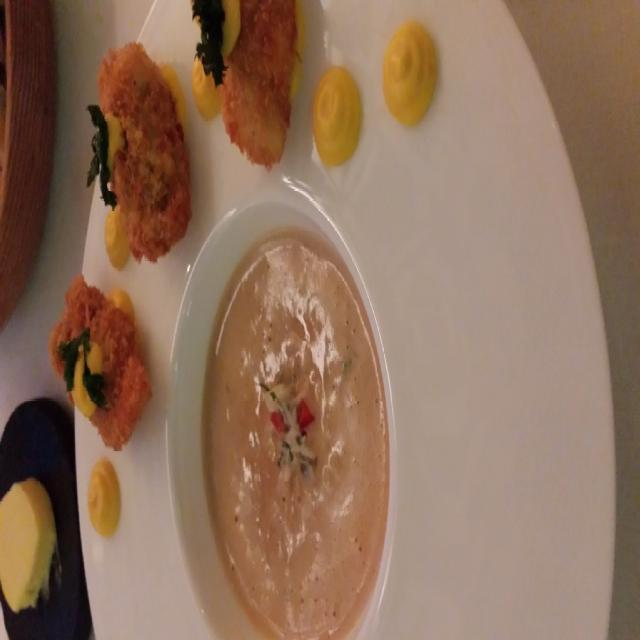ceramic plate: (79, 5, 594, 640)
